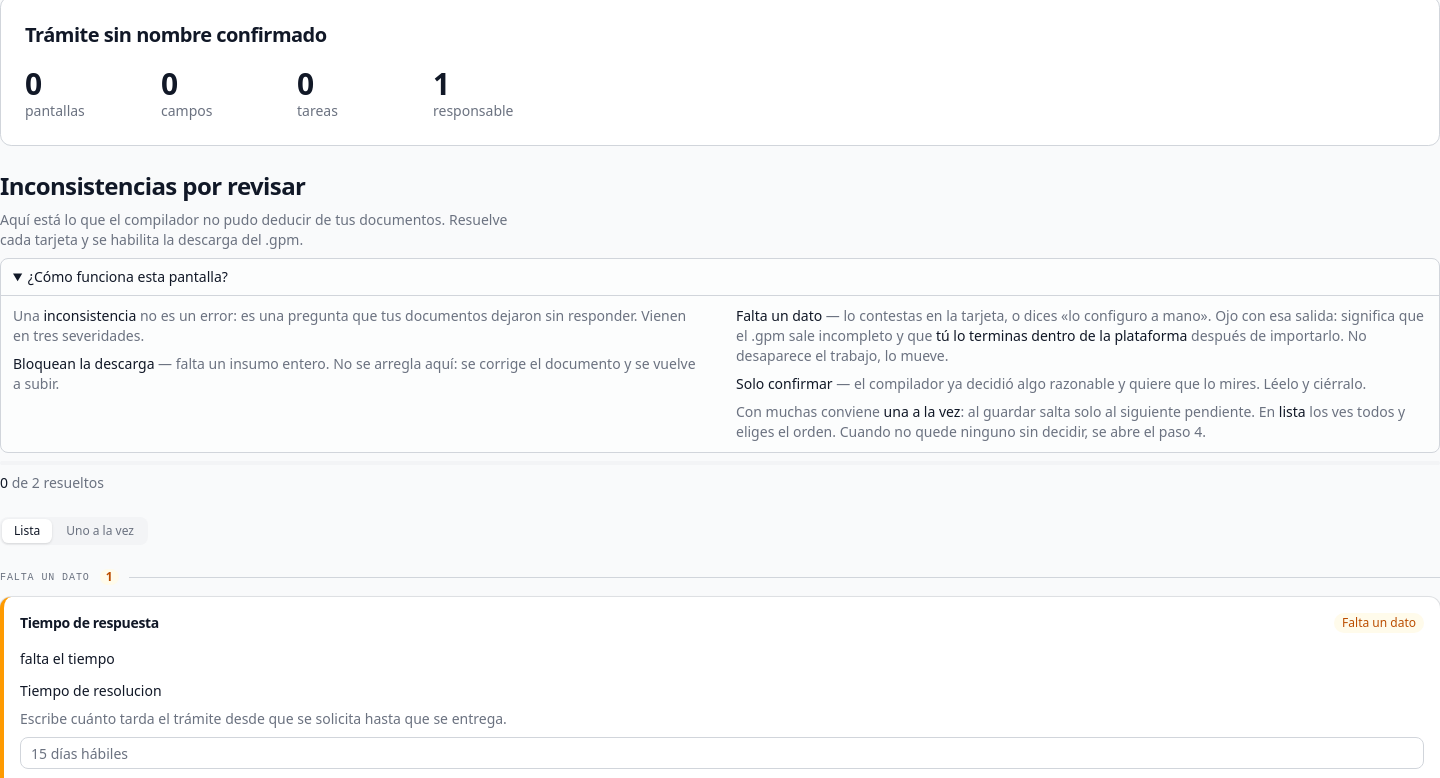
Test: avisa que el hueco quedo resuelto y cuantos faltan
The width and height of the screenshot is (1440, 778).
Type "5 dias" into the field labelled "Tiempo de resolucion".
click(722, 753); type("5 dias")  # box 20,737 -> 1424,769
(page scrolled)
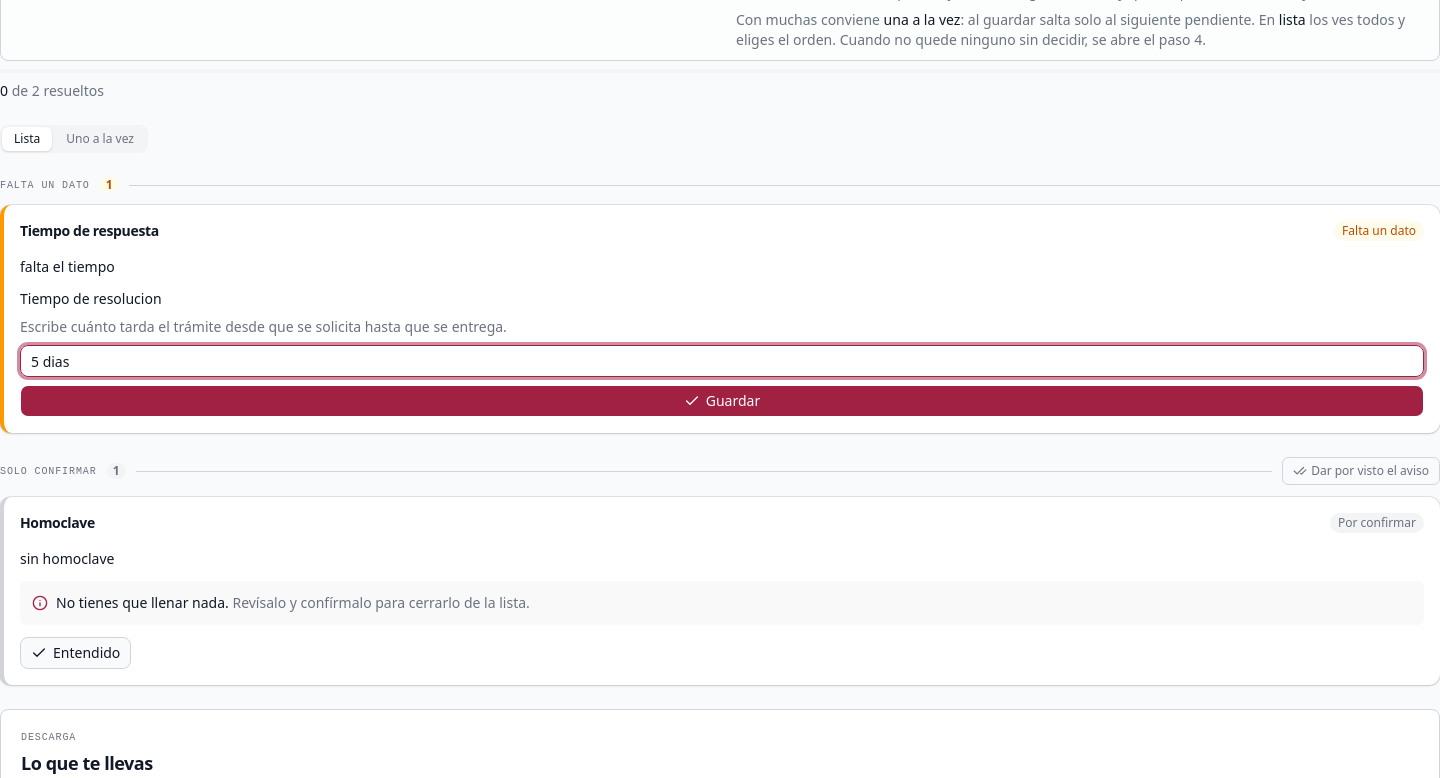
Click the button "Guardar".
click(722, 401)  # box 20,385 -> 1424,417
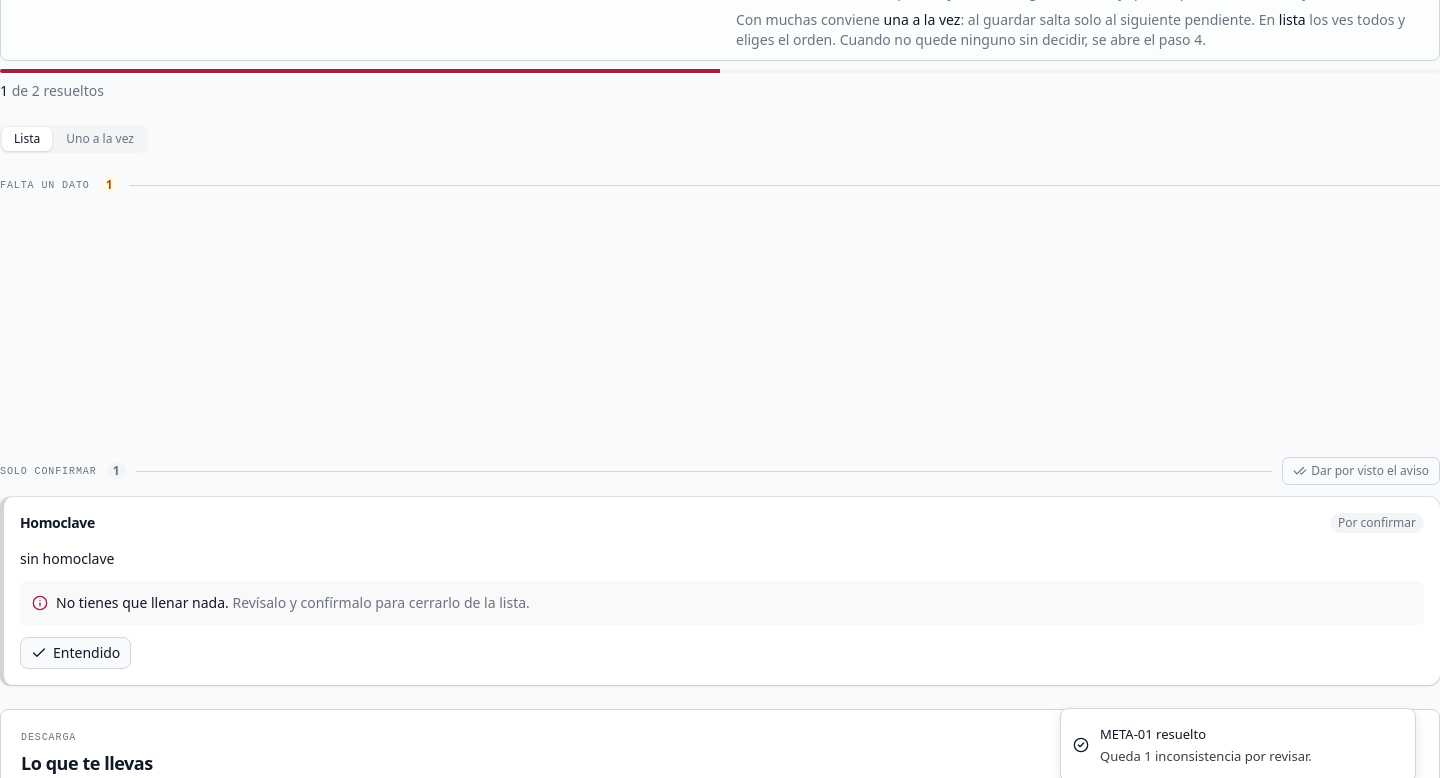
Now the text "META-01 resuelto" is shown, box 1100,725 -> 1206,743
Now the text "Queda 1 inconsistencia por revisar." is shown, box 1100,747 -> 1312,765
